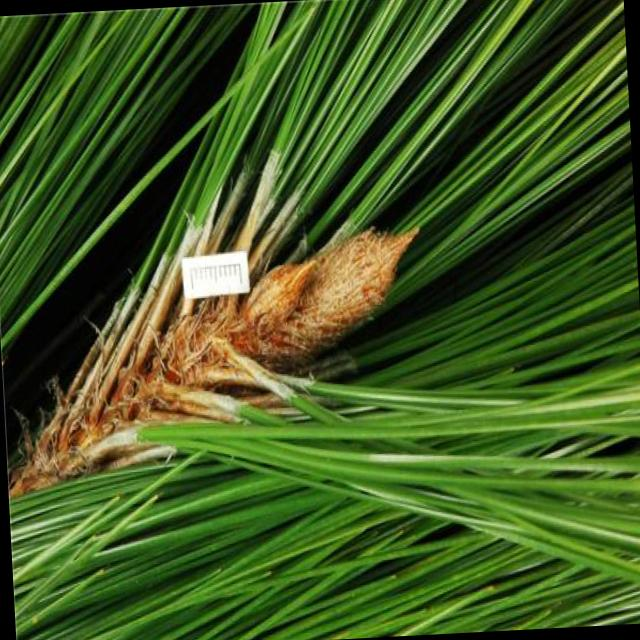Pine: (73, 25, 637, 640), (12, 111, 513, 578)
